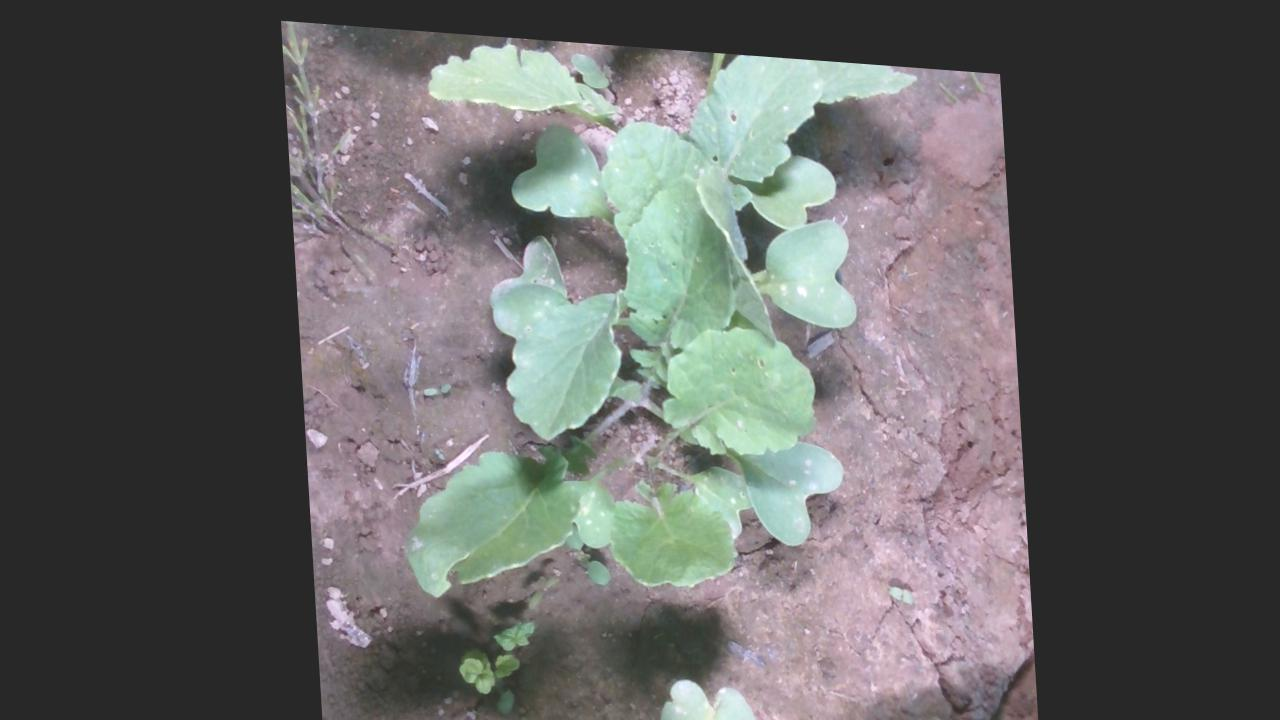weed: (880, 571, 910, 592), (417, 374, 449, 391)
